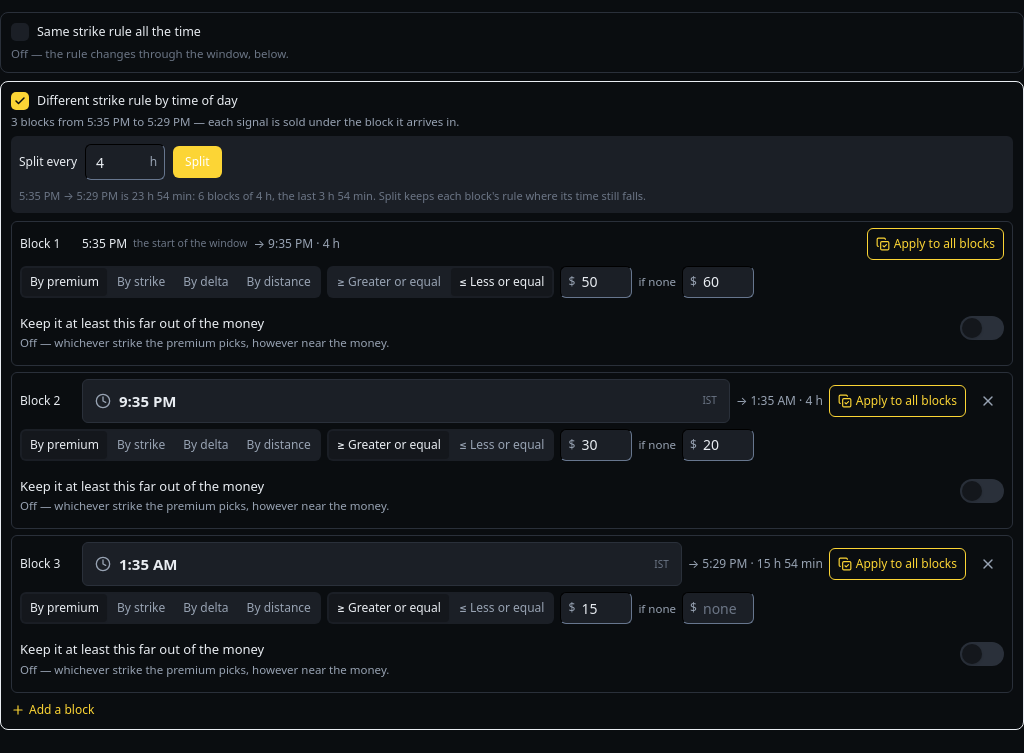
Test: StrikeBlocksEditor: apply to all blocks › from any block, not only the first: block 3's number with no "if none" clears the others' second number
The width and height of the screenshot is (1024, 753).
Click the button with aria-label "apply block 3 to all 3 blocks" at (897, 564), box [829,548,966,580]
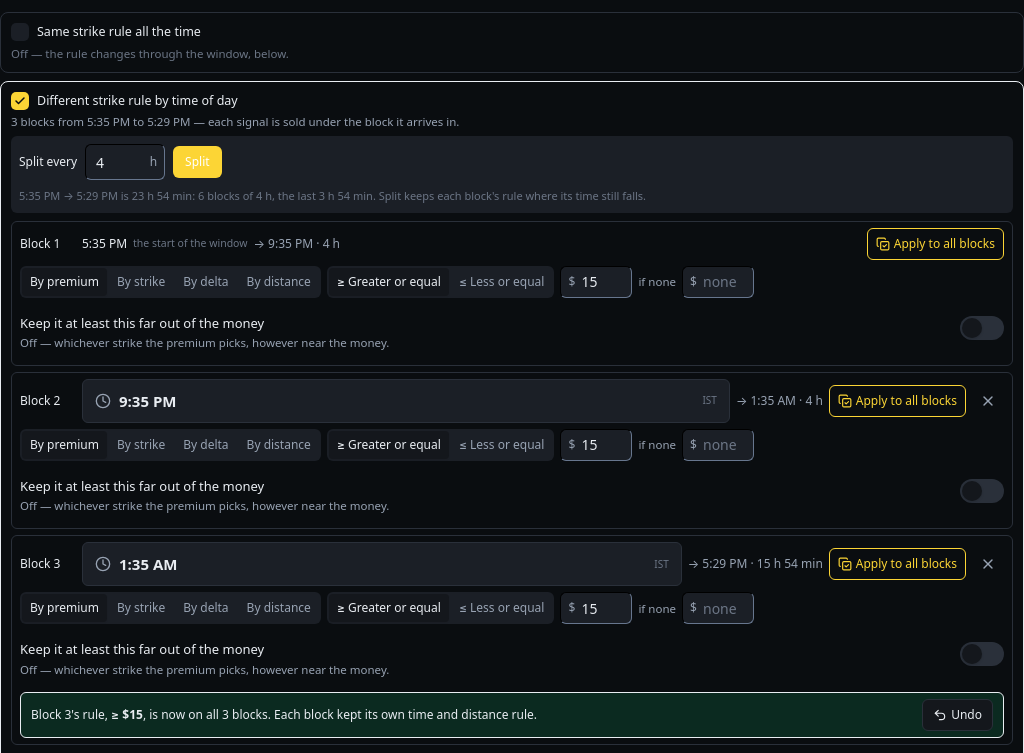
Result: the message shows "Block 3's rule, ≥ $15, is now on all 3 blocks." at [20,692,1004,738]
